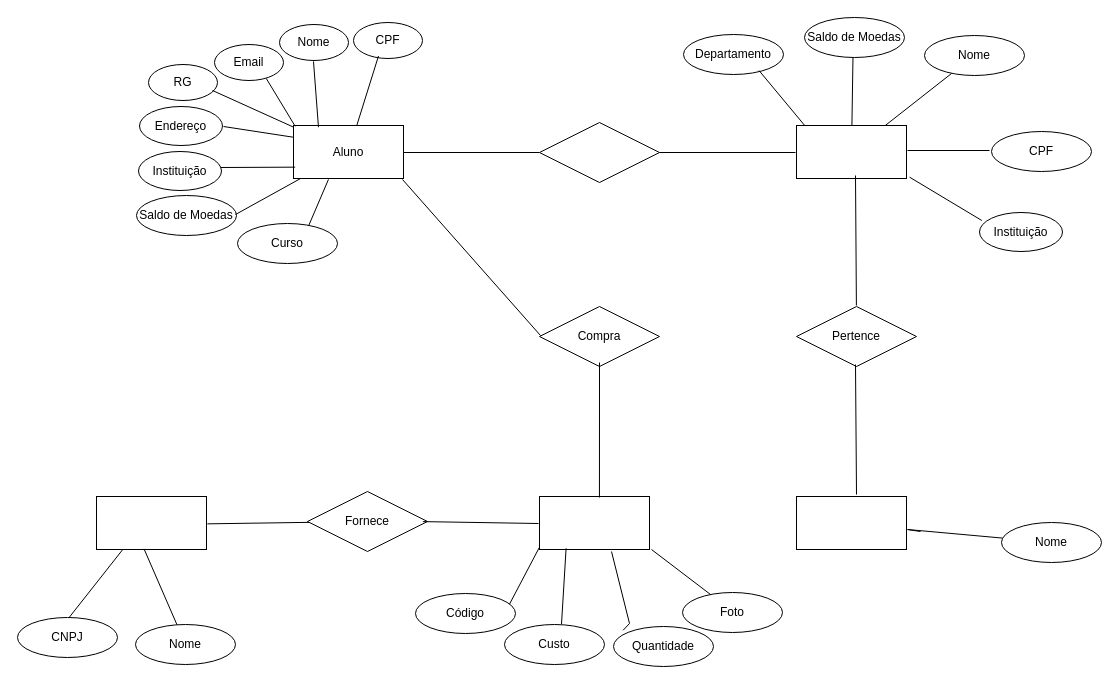
Some shapes in this 1119 by 684 pixel diagram are drawn without their labels. Here are the shapes that lost their labels. From the top down, the centre of each, then its label:
point 599,152: Recebe
point 851,151: Professor
point 151,523: Empresa Parceira
point 594,523: Vantagens
point 851,523: Instituição de Ensino
